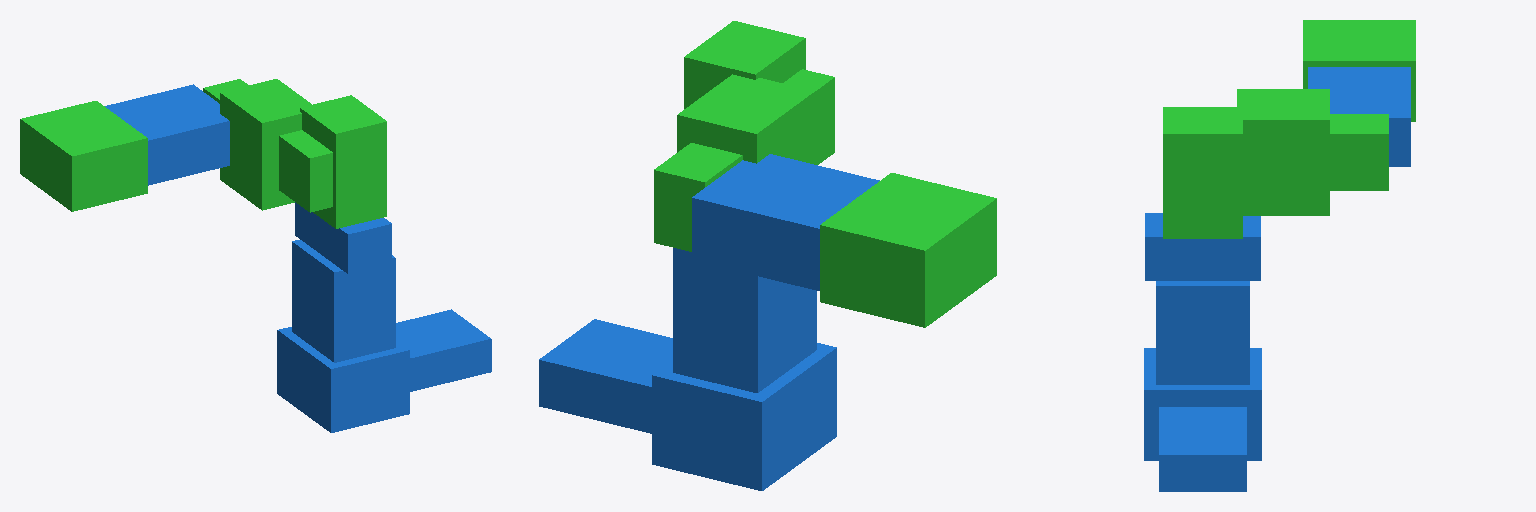
URDF robot description (robot):
<robot name = "robot">
    <link name="Link0">
        <inertial>
            <origin xyz="0 0 2" rpy="0 0 0"/>
            <mass value="0.8016754531492155" />
            <inertia ixx="100" ixy="0" ixz="0" iyy="100" iyz="0" izz="100" />
        </inertial>
        <visual>
            <origin xyz="0 0 2" rpy="0 0 0"/>
            <geometry>
                <box size="0.9910589188281478 1.1670848638770785 0.6931012387881994" />
            </geometry>
            <material name="Sensor">
                <color rgba="0.239 0.875 0.282 1.0"/>
            </material>
        </visual>
        <collision>
            <origin xyz="0 0 2" rpy="0 0 0"/>
            <geometry>
                <box size="0.9910589188281478 1.1670848638770785 0.6931012387881994" />
            </geometry>
        </collision>
    </link>
    <joint name="Link0_Link1" type="revolute">
       <parent link="Link0"/>
       <child  link="Link1"/>
       <origin rpy="0 0 0" xyz="0.4955294594140739 0 2" />
       <axis xyz="1 0 0"/>
       <limit effort="0.0" lower="-3.14159" upper="3.14159" velocity="0.0"/>
    </joint>
    <link name="Link1">
        <inertial>
            <origin xyz="0.6184923244490803 0 0" rpy="0 0 0"/>
            <mass value="0.7285957238080574" />
            <inertia ixx="100" ixy="0" ixz="0" iyy="100" iyz="0" izz="100" />
        </inertial>
        <visual>
            <origin xyz="0.6184923244490803 0 0" rpy="0 0 0"/>
            <geometry>
                <box size="1.2369846488981606 1.0494877367102835 0.5612352492736875" />
            </geometry>
            <material name="No Sensor">
                <color rgba="0.184 0.553 0.933 1.0"/>
            </material>
        </visual>
        <collision>
            <origin xyz="0.6184923244490803 0 0" rpy="0 0 0"/>
            <geometry>
                <box size="1.2369846488981606 1.0494877367102835 0.5612352492736875" />
            </geometry>
        </collision>
    </link>
    <joint name="Link1_Link2" type="revolute">
       <parent link="Link1"/>
       <child  link="Link2"/>
       <origin rpy="0 0 0" xyz="1.2369846488981606 0.0 0.0" />
       <axis xyz="1 0 0"/>
       <limit effort="0.0" lower="-3.14159" upper="3.14159" velocity="0.0"/>
    </joint>
    <link name="Link2">
        <inertial>
            <origin xyz="0.24155264909206503 0.0 0.0" rpy="0 0 0"/>
            <mass value="0.19259074791685343" />
            <inertia ixx="100" ixy="0" ixz="0" iyy="100" iyz="0" izz="100" />
        </inertial>
        <visual>
            <origin xyz="0.24155264909206503 0.0 0.0" rpy="0 0 0"/>
            <geometry>
                <box size="0.48310529818413006 0.6089360040376469 0.6546692860273702" />
            </geometry>
            <material name="Sensor">
                <color rgba="0.239 0.875 0.282 1.0"/>
            </material>
        </visual>
        <collision>
            <origin xyz="0.24155264909206503 0.0 0.0" rpy="0 0 0"/>
            <geometry>
                <box size="0.48310529818413006 0.6089360040376469 0.6546692860273702" />
            </geometry>
        </collision>
    </link>
    <joint name="Link2_Link3" type="revolute">
       <parent link="Link2"/>
       <child  link="Link3"/>
       <origin rpy="0 0 0" xyz="0.24155264909206503 -0.30446800201882346 0.0" />
       <axis xyz="0 1 0"/>
       <limit effort="0.0" lower="-3.14159" upper="3.14159" velocity="0.0"/>
    </joint>
    <link name="Link3">
        <inertial>
            <origin xyz="0.0 -0.47576687116755045 0.0" rpy="0 0 0"/>
            <mass value="0.7743332224452599" />
            <inertia ixx="100" ixy="0" ixz="0" iyy="100" iyz="0" izz="100" />
        </inertial>
        <visual>
            <origin xyz="0.0 -0.47576687116755045 0.0" rpy="0 0 0"/>
            <geometry>
                <box size="0.7458982904383696 0.9515337423351009 1.0909983347570873" />
            </geometry>
            <material name="Sensor">
                <color rgba="0.239 0.875 0.282 1.0"/>
            </material>
        </visual>
        <collision>
            <origin xyz="0.0 -0.47576687116755045 0.0" rpy="0 0 0"/>
            <geometry>
                <box size="0.7458982904383696 0.9515337423351009 1.0909983347570873" />
            </geometry>
        </collision>
    </link>
    <joint name="Link3_Link4" type="revolute">
       <parent link="Link3"/>
       <child  link="Link4"/>
       <origin rpy="0 0 0" xyz="0.0 -0.9515337423351009 0.0" />
       <axis xyz="1 0 0"/>
       <limit effort="0.0" lower="-3.14159" upper="3.14159" velocity="0.0"/>
    </joint>
    <link name="Link4">
        <inertial>
            <origin xyz="0.0 -0.35153600600358204 0.0" rpy="0 0 0"/>
            <mass value="0.1472337718612383" />
            <inertia ixx="100" ixy="0" ixz="0" iyy="100" iyz="0" izz="100" />
        </inertial>
        <visual>
            <origin xyz="0.0 -0.35153600600358204 0.0" rpy="0 0 0"/>
            <geometry>
                <box size="0.3090740217459348 0.7030720120071641 0.6775558899293027" />
            </geometry>
            <material name="Sensor">
                <color rgba="0.239 0.875 0.282 1.0"/>
            </material>
        </visual>
        <collision>
            <origin xyz="0.0 -0.35153600600358204 0.0" rpy="0 0 0"/>
            <geometry>
                <box size="0.3090740217459348 0.7030720120071641 0.6775558899293027" />
            </geometry>
        </collision>
    </link>
    <joint name="Link4_Link5" type="revolute">
       <parent link="Link4"/>
       <child  link="Link5"/>
       <origin rpy="0 0 0" xyz="0.1545370108729674 -0.35153600600358204 0.0" />
       <axis xyz="0 0 1"/>
       <limit effort="0.0" lower="-3.14159" upper="3.14159" velocity="0.0"/>
    </joint>
    <link name="Link5">
        <inertial>
            <origin xyz="0.3370162072502803 0.0 0.0" rpy="0 0 0"/>
            <mass value="0.6525405356825341" />
            <inertia ixx="100" ixy="0" ixz="0" iyy="100" iyz="0" izz="100" />
        </inertial>
        <visual>
            <origin xyz="0.3370162072502803 0.0 0.0" rpy="0 0 0"/>
            <geometry>
                <box size="0.6740324145005606 0.8136770885928416 1.189801810169487" />
            </geometry>
            <material name="Sensor">
                <color rgba="0.239 0.875 0.282 1.0"/>
            </material>
        </visual>
        <collision>
            <origin xyz="0.3370162072502803 0.0 0.0" rpy="0 0 0"/>
            <geometry>
                <box size="0.6740324145005606 0.8136770885928416 1.189801810169487" />
            </geometry>
        </collision>
    </link>
    <joint name="Link5_Link6" type="revolute">
       <parent link="Link5"/>
       <child  link="Link6"/>
       <origin rpy="0 0 0" xyz="0.3370162072502803 0.0 -0.5949009050847435" />
       <axis xyz="0 1 0"/>
       <limit effort="0.0" lower="-3.14159" upper="3.14159" velocity="0.0"/>
    </joint>
    <link name="Link6">
        <inertial>
            <origin xyz="0.0 0.0 -0.2479421289548263" rpy="0 0 0"/>
            <mass value="0.34502976566151583" />
            <inertia ixx="100" ixy="0" ixz="0" iyy="100" iyz="0" izz="100" />
        </inertial>
        <visual>
            <origin xyz="0.0 0.0 -0.2479421289548263" rpy="0 0 0"/>
            <geometry>
                <box size="0.5803214160955078 1.1989681421433716 0.4958842579096526" />
            </geometry>
            <material name="No Sensor">
                <color rgba="0.184 0.553 0.933 1.0"/>
            </material>
        </visual>
        <collision>
            <origin xyz="0.0 0.0 -0.2479421289548263" rpy="0 0 0"/>
            <geometry>
                <box size="0.5803214160955078 1.1989681421433716 0.4958842579096526" />
            </geometry>
        </collision>
    </link>
    <joint name="Link6_Link7" type="revolute">
       <parent link="Link6"/>
       <child  link="Link7"/>
       <origin rpy="0 0 0" xyz="0.0 0.0 -0.4958842579096526" />
       <axis xyz="0 1 0"/>
       <limit effort="0.0" lower="-3.14159" upper="3.14159" velocity="0.0"/>
    </joint>
    <link name="Link7">
        <inertial>
            <origin xyz="0.0 0.0 -0.5653108479962601" rpy="0 0 0"/>
            <mass value="0.8696561990969676" />
            <inertia ixx="100" ixy="0" ixz="0" iyy="100" iyz="0" izz="100" />
        </inertial>
        <visual>
            <origin xyz="0.0 0.0 -0.5653108479962601" rpy="0 0 0"/>
            <geometry>
                <box size="0.7984050277202206 0.963400836019665 1.1306216959925202" />
            </geometry>
            <material name="No Sensor">
                <color rgba="0.184 0.553 0.933 1.0"/>
            </material>
        </visual>
        <collision>
            <origin xyz="0.0 0.0 -0.5653108479962601" rpy="0 0 0"/>
            <geometry>
                <box size="0.7984050277202206 0.963400836019665 1.1306216959925202" />
            </geometry>
        </collision>
    </link>
    <joint name="Link7_Link8" type="revolute">
       <parent link="Link7"/>
       <child  link="Link8"/>
       <origin rpy="0 0 0" xyz="0.0 0.0 -1.1306216959925202" />
       <axis xyz="1 0 0"/>
       <limit effort="0.0" lower="-3.14159" upper="3.14159" velocity="0.0"/>
    </joint>
    <link name="Link8">
        <inertial>
            <origin xyz="0.0 0.0 -0.4005715513629829" rpy="0 0 0"/>
            <mass value="1.0048732313328734" />
            <inertia ixx="100" ixy="0" ixz="0" iyy="100" iyz="0" izz="100" />
        </inertial>
        <visual>
            <origin xyz="0.0 0.0 -0.4005715513629829" rpy="0 0 0"/>
            <geometry>
                <box size="1.0316986897799816 1.2157612589875493 0.8011431027259658" />
            </geometry>
            <material name="No Sensor">
                <color rgba="0.184 0.553 0.933 1.0"/>
            </material>
        </visual>
        <collision>
            <origin xyz="0.0 0.0 -0.4005715513629829" rpy="0 0 0"/>
            <geometry>
                <box size="1.0316986897799816 1.2157612589875493 0.8011431027259658" />
            </geometry>
        </collision>
    </link>
    <joint name="Link8_Link9" type="revolute">
       <parent link="Link8"/>
       <child  link="Link9"/>
       <origin rpy="0 0 0" xyz="0.5158493448899908 0.0 -0.4005715513629829" />
       <axis xyz="0 1 0"/>
       <limit effort="0.0" lower="-3.14159" upper="3.14159" velocity="0.0"/>
    </joint>
    <link name="Link9">
        <inertial>
            <origin xyz="0.5777131687702435 0.0 0.0" rpy="0 0 0"/>
            <mass value="0.43798963332243995" />
            <inertia ixx="100" ixy="0" ixz="0" iyy="100" iyz="0" izz="100" />
        </inertial>
        <visual>
            <origin xyz="0.5777131687702435 0.0 0.0" rpy="0 0 0"/>
            <geometry>
                <box size="1.155426337540487 0.9046843569563314 0.41901009619785123" />
            </geometry>
            <material name="No Sensor">
                <color rgba="0.184 0.553 0.933 1.0"/>
            </material>
        </visual>
        <collision>
            <origin xyz="0.5777131687702435 0.0 0.0" rpy="0 0 0"/>
            <geometry>
                <box size="1.155426337540487 0.9046843569563314 0.41901009619785123" />
            </geometry>
        </collision>
    </link>
</robot>

--- What the picture shows (computed from the rendered views, not written in the file) ---
Views: 3 orthographic renders of the robot side by side, from view 1: azimuth 30°, elevation 25°; view 2: azimuth 150°, elevation 25°; view 3: azimuth 270°, elevation 25°.
Robot: robot — 10 links, 9 joints (9 revolute); root link Link0; default pose: all joints at 0.
Visible links, largest first — view 1: Link0, Link7, Link8, Link5, Link1, Link3, Link9, Link6, Link4; view 2: Link0, Link8, Link1, Link7, Link9, Link3, Link5, Link2, Link4; view 3: Link3, Link5, Link7, Link9, Link6, Link0, Link1, Link8, Link2.
Boxes of the visible links, <box> form: Link0: <box>20,101,147,211</box>; Link7: <box>292,240,395,362</box>; Link8: <box>277,327,409,432</box>; Link5: <box>300,95,386,228</box>; Link1: <box>105,84,229,185</box>; Link3: <box>220,79,311,210</box>; Link9: <box>396,309,491,391</box>; Link6: <box>295,202,391,273</box>; Link4: <box>279,130,332,212</box>; Link0: <box>820,173,996,327</box>; Link8: <box>652,343,836,490</box>; Link1: <box>692,154,879,290</box>; Link7: <box>673,248,816,392</box>; Link9: <box>539,319,672,433</box>; Link3: <box>677,74,814,164</box>; Link5: <box>684,21,805,108</box>; Link2: <box>654,143,742,251</box>; Link4: <box>783,69,834,164</box>; Link3: <box>1237,89,1329,215</box>; Link5: <box>1163,107,1242,238</box>; Link7: <box>1156,281,1249,384</box>; Link9: <box>1159,407,1246,491</box>; Link6: <box>1145,213,1260,280</box>; Link0: <box>1303,20,1415,121</box>; Link1: <box>1308,67,1410,166</box>; Link8: <box>1144,348,1261,460</box>; Link2: <box>1330,114,1388,190</box>.
Bounding box of the posed robot: 4.63 × 2.8 × 3.62 m (x, y, z).
Geometry: primitives only (box / cylinder / sphere), no mesh files.